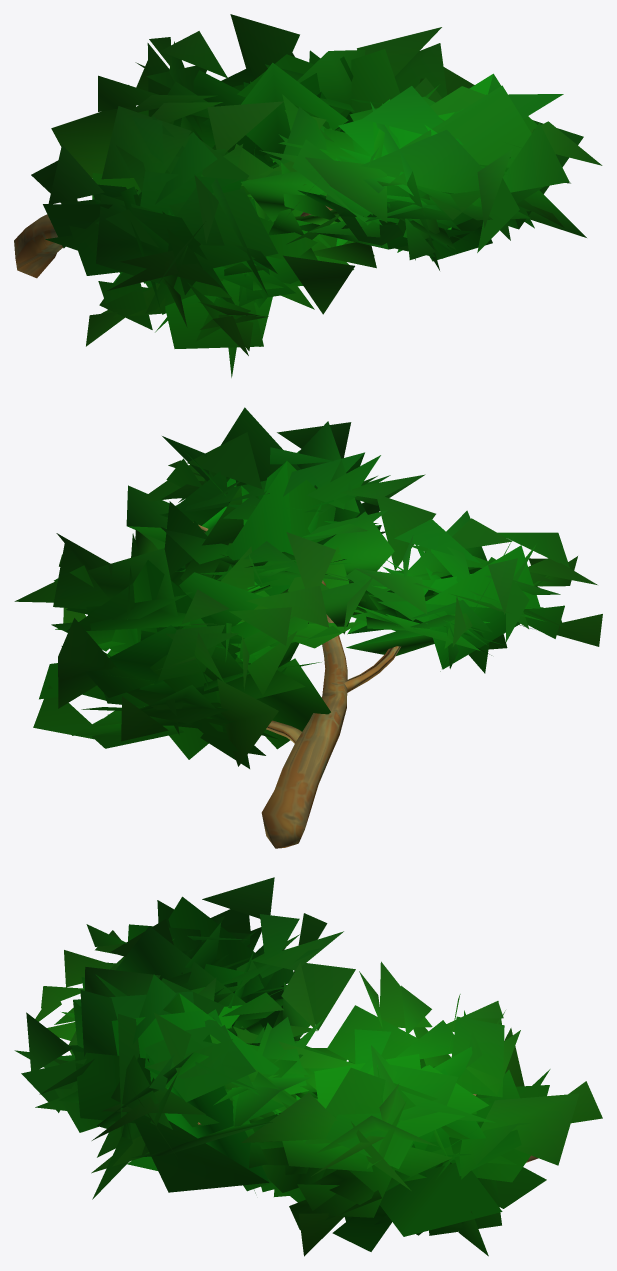
Rendered from env_forest_gianttree_bigbranch02_lod2.fbx.
3 views of the same model, one above another, from view 1: azimuth 30°, elevation 25°; view 2: azimuth 150°, elevation 25°; view 3: azimuth 270°, elevation 25° (orthographic). The views are drawn at different scales.
Visible parts, largest first — view 1: bigbranch02_lod2; view 2: bigbranch02_lod2; view 3: bigbranch02_lod2.
Boxes of the visible parts, <box> form: bigbranch02_lod2: <box>14,14,602,377</box>; bigbranch02_lod2: <box>14,407,602,848</box>; bigbranch02_lod2: <box>14,877,602,1256</box>.
Size of the model in its own units: 142 by 74.39 by 146.
